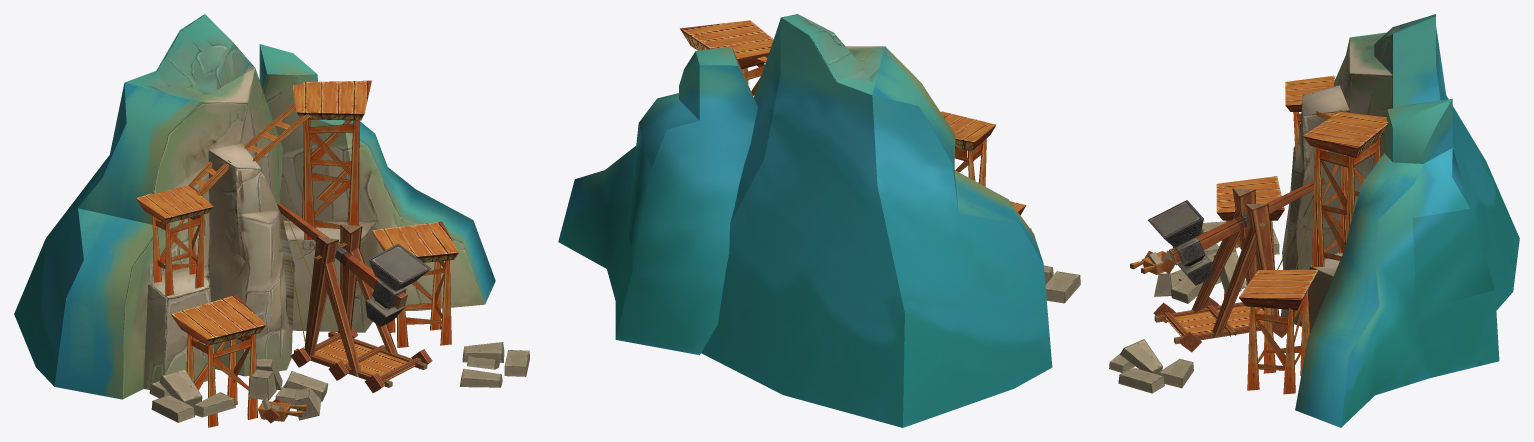
File: Stone_low.FBX
3 renders of one model, left to right at view 1: azimuth 30°, elevation 25°; view 2: azimuth 150°, elevation 25°; view 3: azimuth 270°, elevation 25°, orthographic. The views are drawn at different scales.
Parts seen in each view (by area): view 1: stone_low, stone_low01; view 2: stone_low; view 3: stone_low, stone_low01.
Part boxes in pixels (x1=…): stone_low: x1=14, y1=14, x2=529, y2=427; stone_low01: x1=277, y1=202, x2=431, y2=341; stone_low: x1=558, y1=14, x2=1080, y2=427; stone_low: x1=1109, y1=14, x2=1519, y2=427; stone_low01: x1=1147, y1=177, x2=1325, y2=310.
Size of the model in its own units: 176 by 143 by 121.
